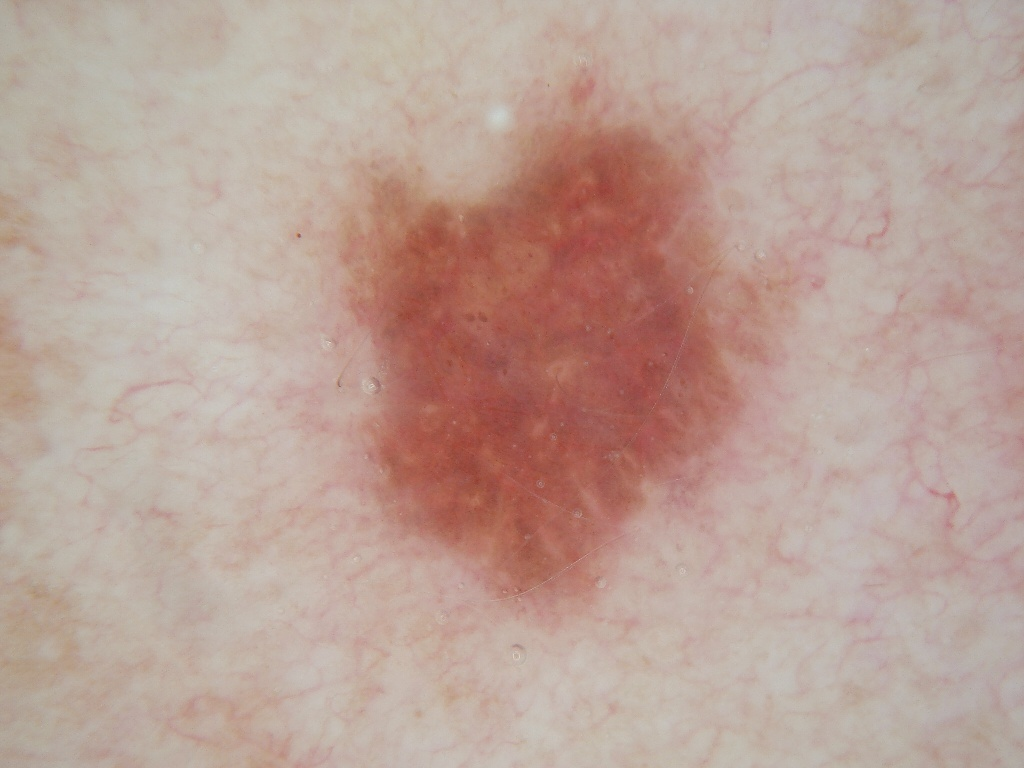Detected Lesion: (326, 61, 793, 628)
